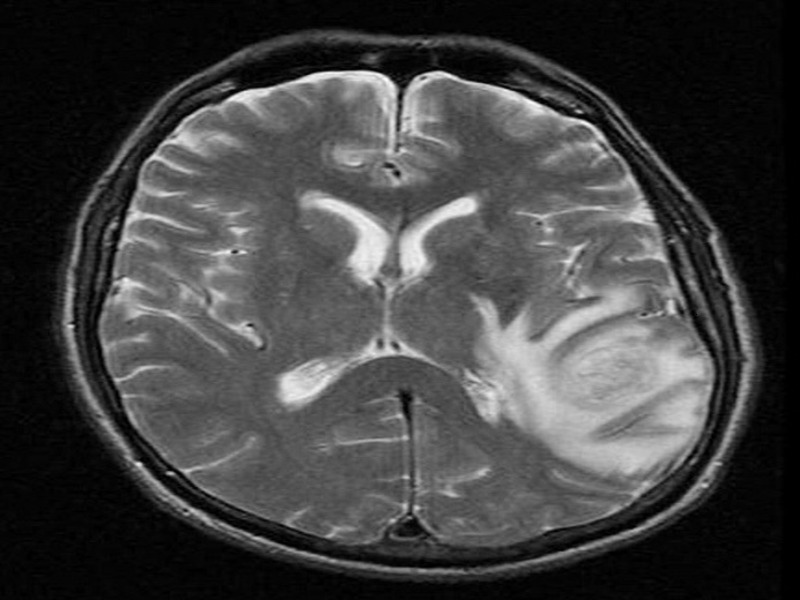tumor: (459, 292, 604, 442)
